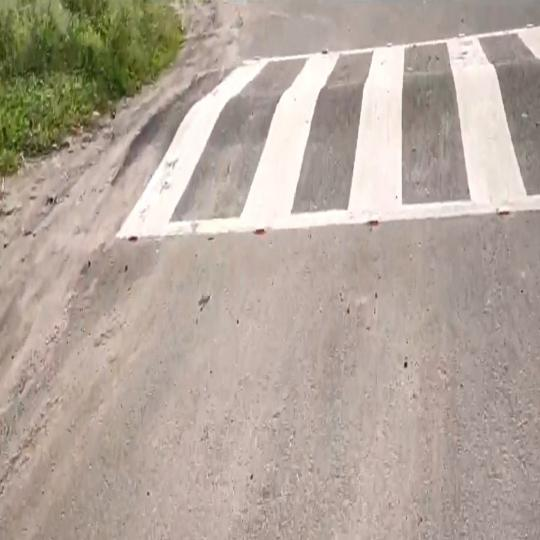Speed Bump: (92, 23, 540, 240)
